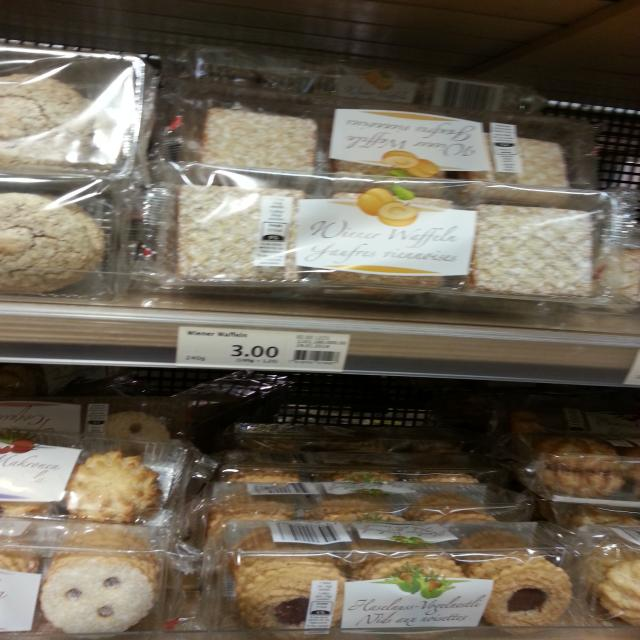Bakery: (121, 168, 627, 305), (146, 91, 581, 199), (203, 518, 585, 640), (0, 521, 184, 640), (0, 432, 180, 528)
